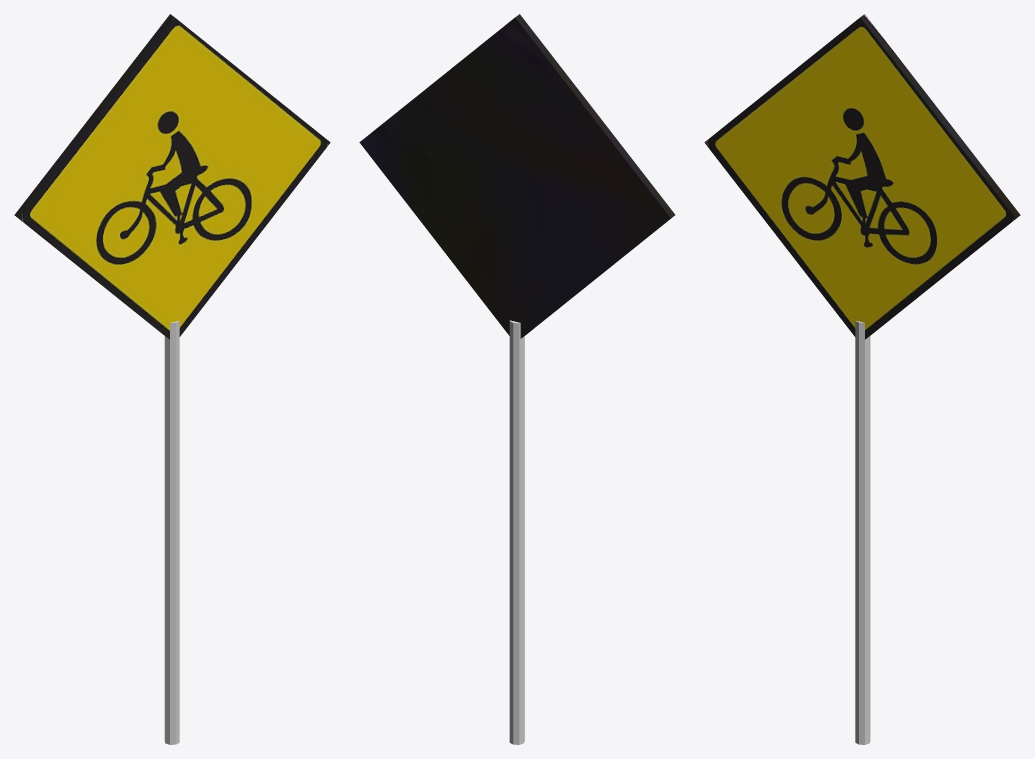
Rendered from letrero de ciclovia.fbx.
The picture shows the model from 3 angles, left to right: view 1: azimuth 30°, elevation 25°; view 2: azimuth 150°, elevation 25°; view 3: azimuth 330°, elevation 25°; orthographic projection.
Visible parts, largest first — view 1: Cube, Cilindro; view 2: Cube, Cilindro; view 3: Cube, Cilindro.
Boxes of the visible parts, <box> form: Cube: <box>14,14,330,339</box>; Cilindro: <box>164,320,179,744</box>; Cube: <box>359,14,675,338</box>; Cilindro: <box>509,320,524,744</box>; Cube: <box>704,14,1020,339</box>; Cilindro: <box>855,320,870,744</box>.
Size of the model in its own units: 283 by 630 by 12.34.
Materials: 1 (1 with a texture image).
